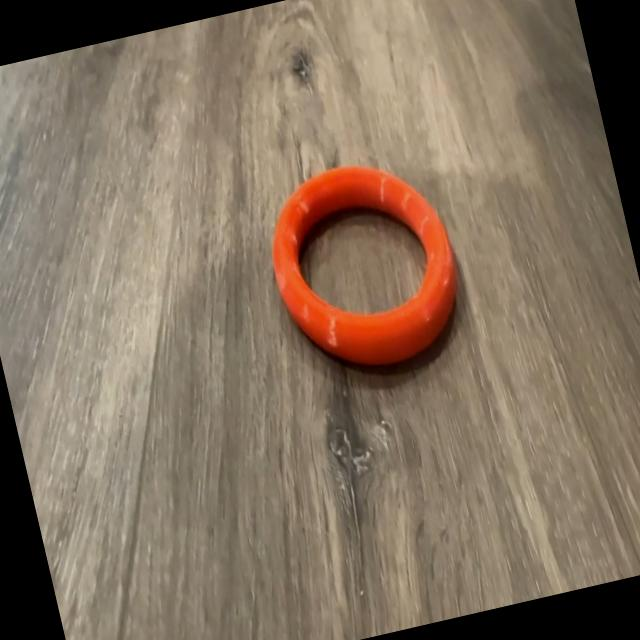note: (253, 143, 473, 387)
